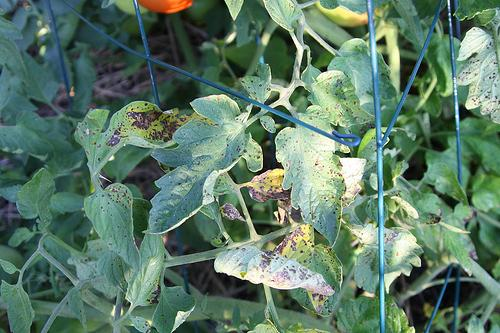Tomato Septoria leaf spot: (137, 95, 270, 236), (271, 106, 351, 249), (71, 91, 186, 171), (274, 216, 345, 318), (350, 203, 421, 304), (213, 239, 328, 299), (85, 180, 141, 275), (302, 68, 373, 132), (238, 58, 279, 105)
